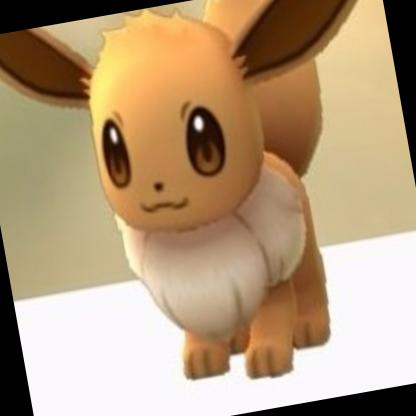Eevee: (1, 1, 402, 407)
